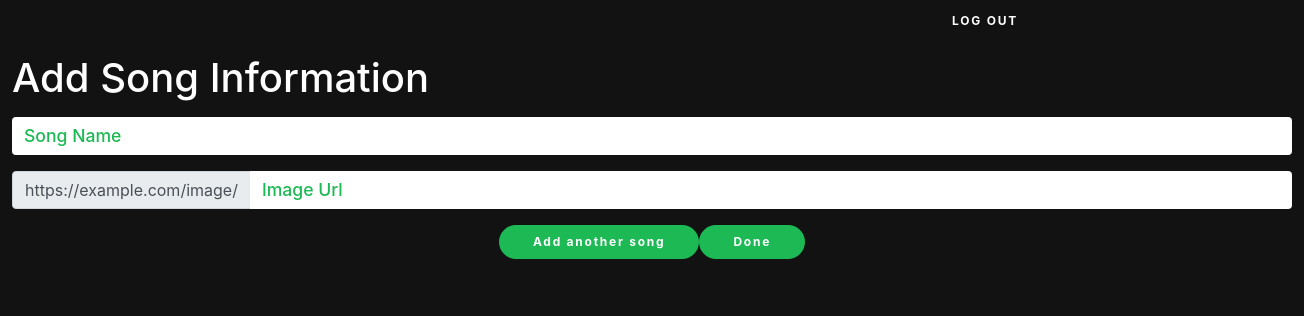
Test: Song Image input Empty check
Step 1. Click the button with id "submit" → (599, 242), box [499,225,699,259]
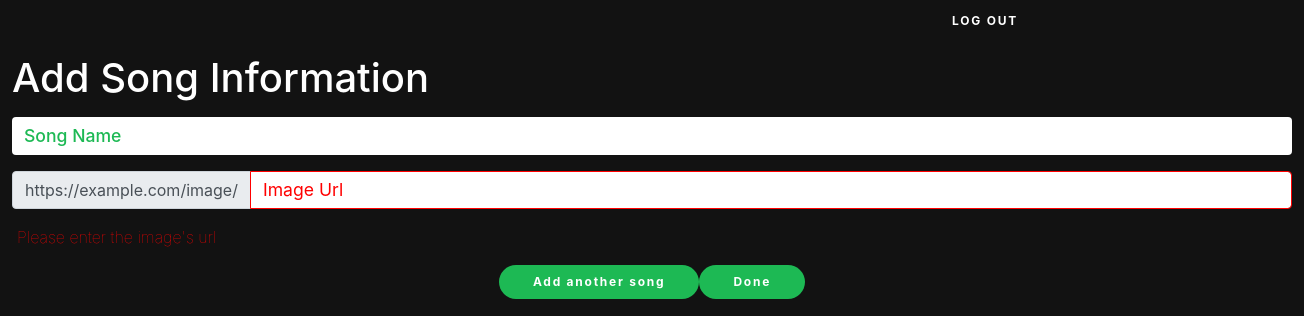
Result: the text with id "error-message2" reads "Please enter the image's url" at [17,227,216,247]
